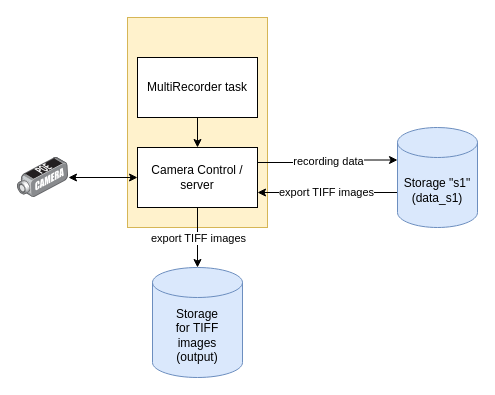
Some shapes in this 495 by 395 pixel diagram are drawn without their labels. The box of each missing label's shape, as (x1, y1, x2, y2) in pixels:
Camera1: (17, 157, 68, 197)
Process1: (126, 16, 268, 228)
